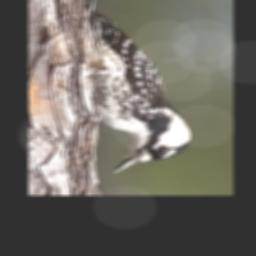Woodpecker: (79, 11, 197, 175)
